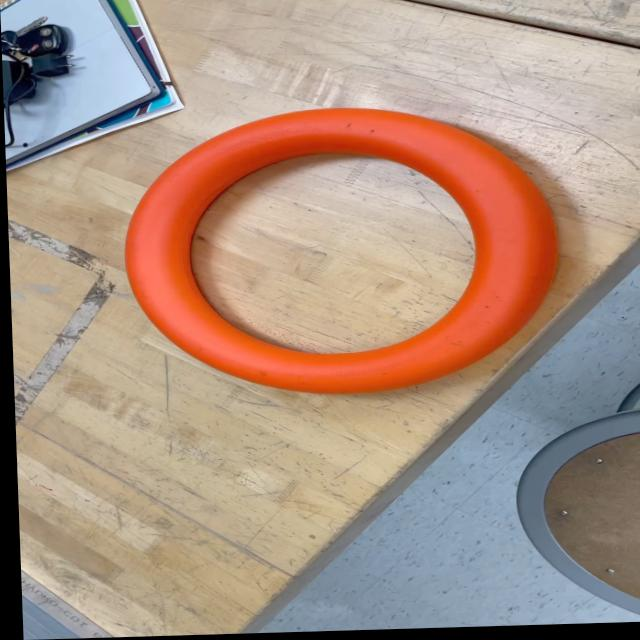note: (110, 101, 565, 405)
